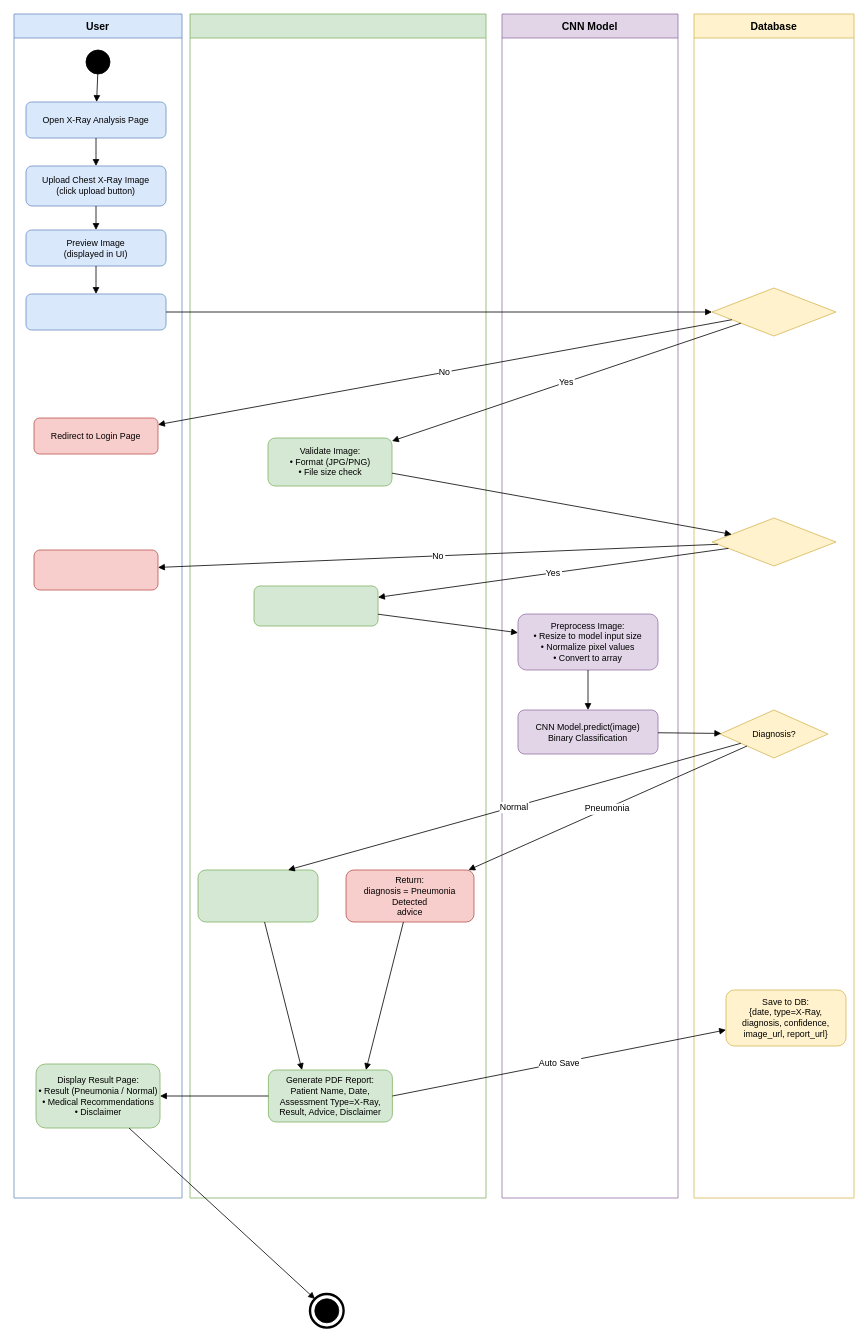
Some shapes in this 868 by 1342 pixel diagram are drawn without their labels. Here are the shapes that lost their labels. From the top down, the box of each, then its label:
(25, 293, 166, 330): Click 'Analyze'
(711, 287, 836, 336): User Logged In?
(711, 517, 836, 566): Image Valid?
(33, 549, 158, 590): Show Error Message (invalid format/size)
(253, 585, 378, 626): Send POST /predict/image {access_token, image}
(189, 13, 486, 1198): System
(197, 869, 318, 922): Return: diagnosis = Normal advice
